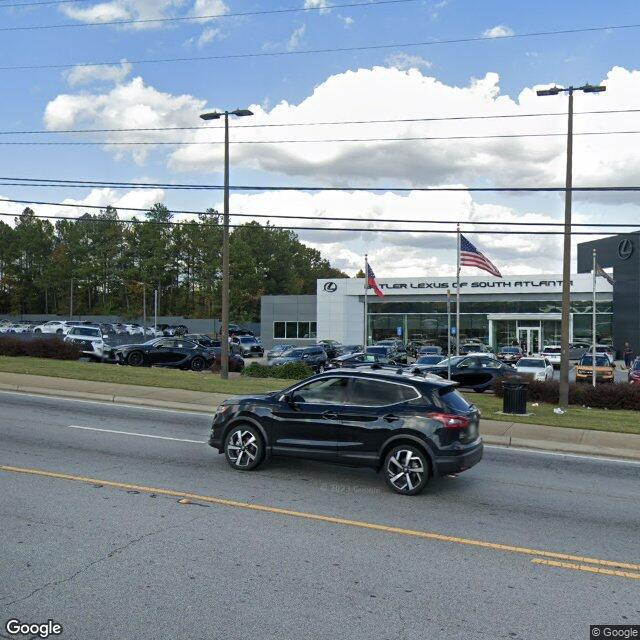trash_can: (502, 382, 528, 414)
